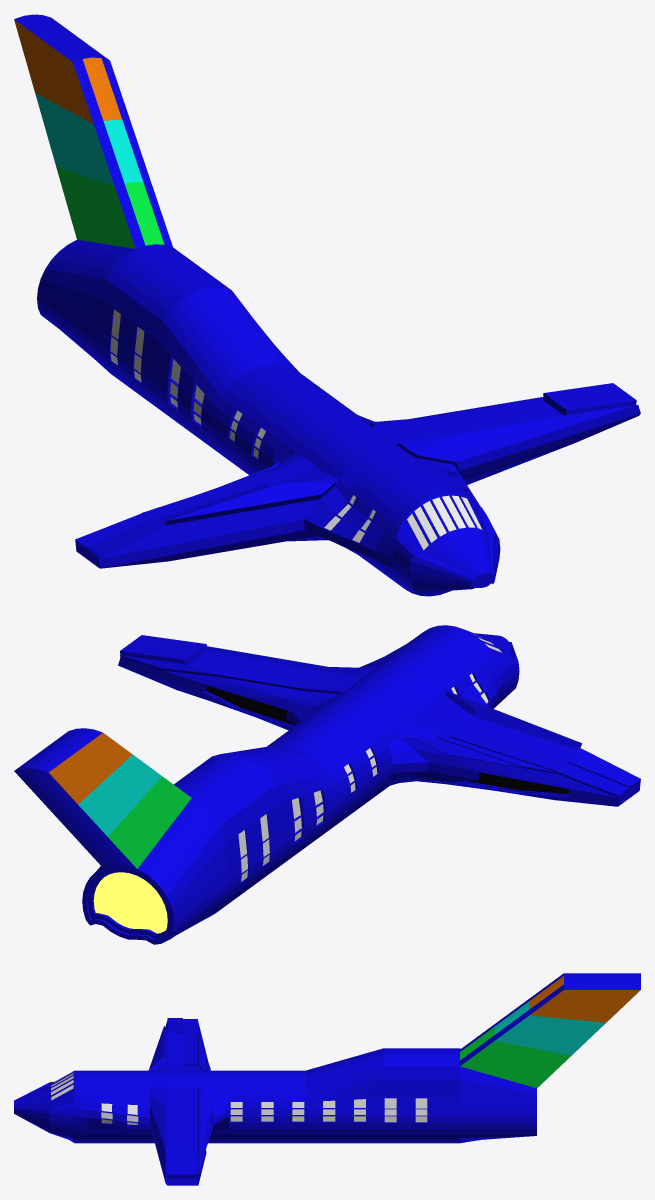
Rendered from midair_plane_1.fbx.
3 views of the same model, one above another, from view 1: azimuth 30°, elevation 25°; view 2: azimuth 150°, elevation 25°; view 3: azimuth 270°, elevation 25° (orthographic). The views are drawn at different scales.
Parts seen in each view (by area): view 1: Cylinder; view 2: Cylinder; view 3: Cylinder.
Boxes of the visible parts, x1,y1,x2,y2 form: Cylinder: (14, 14, 640, 596); Cylinder: (14, 625, 640, 944); Cylinder: (14, 973, 640, 1185).
Bounding box in the file's own units: 20.74 × 9.47 × 31.77.
